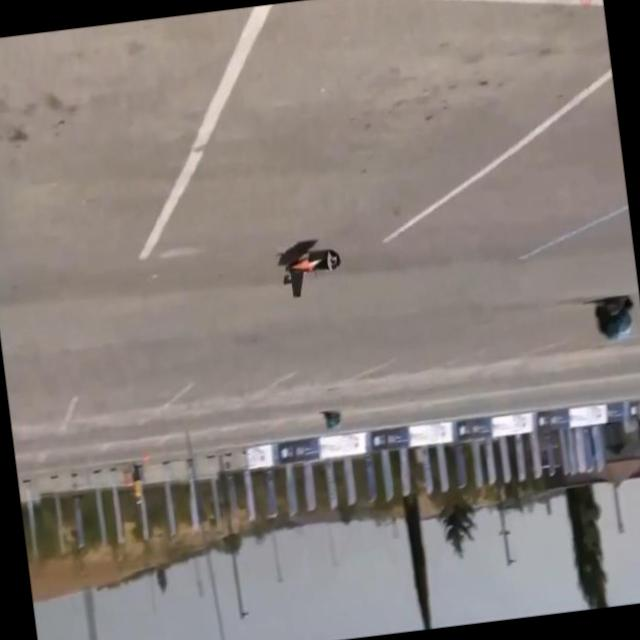UAV: (245, 217, 347, 334)
